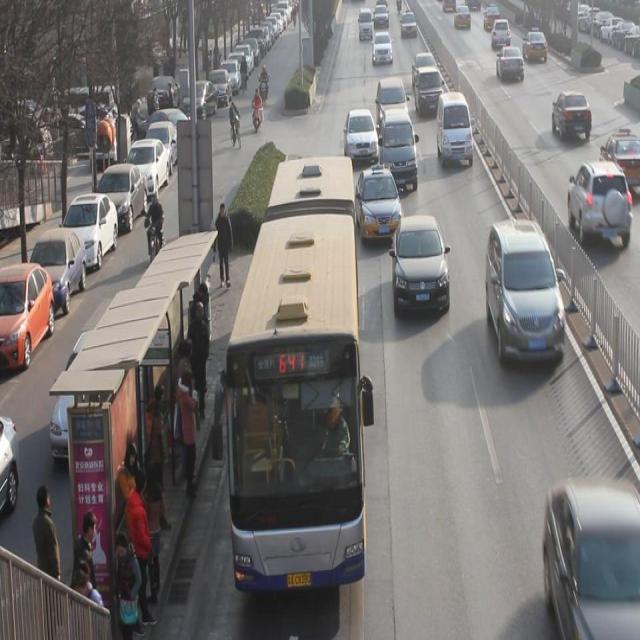car: (542, 478, 640, 625), (485, 220, 565, 366), (394, 215, 450, 315), (566, 160, 629, 247), (356, 166, 402, 243), (600, 126, 640, 189), (552, 90, 592, 141), (344, 110, 379, 165), (376, 78, 408, 122), (415, 66, 443, 113), (497, 45, 525, 82), (522, 28, 549, 61), (412, 51, 437, 86), (491, 17, 512, 49), (373, 29, 393, 62)
truck: (380, 108, 418, 192), (436, 91, 474, 171)
van: (224, 154, 364, 582)
